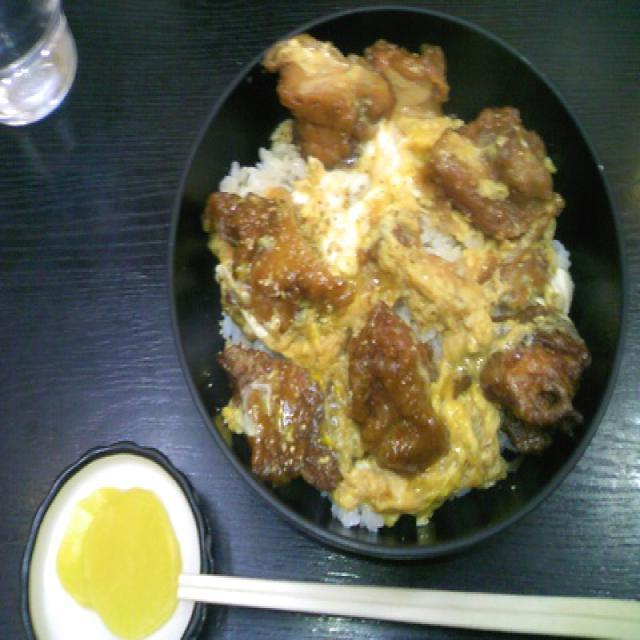chicken-n-egg-on-rice: (156, 0, 633, 573)
